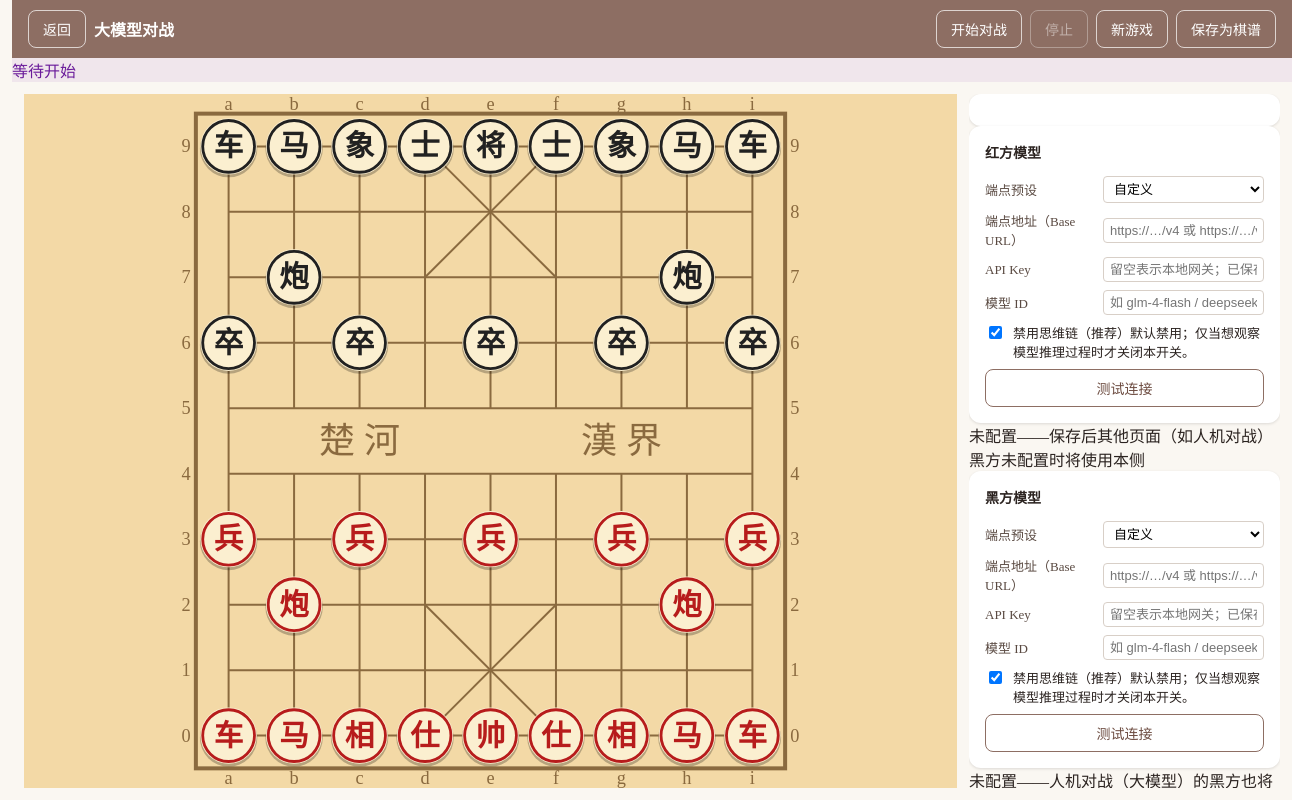
Test: 大模型对战页（08 §3.4 / 05 §8.1） › 01 双方未配置：开始被拦截并提示
This screenshot has width=1292, height=800.
Note: 重渲染会重建按钮节点：点击前重新查询（避免 detached 引用点击无效）
Click the button with test id "llm-loop-toggle": [979, 29] box x1=936 y1=10 x2=1022 y2=48
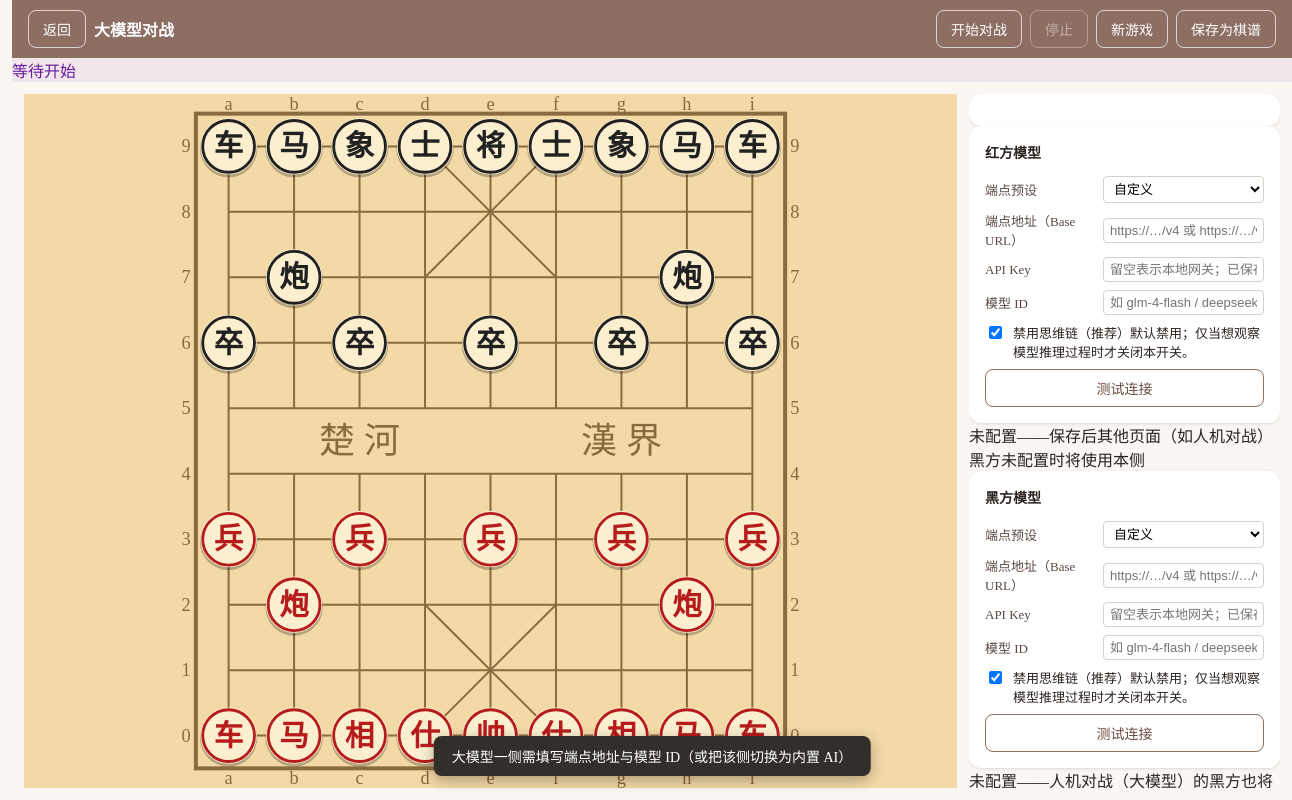
Expected: the message with test id "llm-loop-status" reads "等待开始", x1=12 y1=63 x2=76 y2=80
Expected: the text with class "cc-snackbar" shows "端点地址与模型 ID", x1=452 y1=750 x2=852 y2=765
